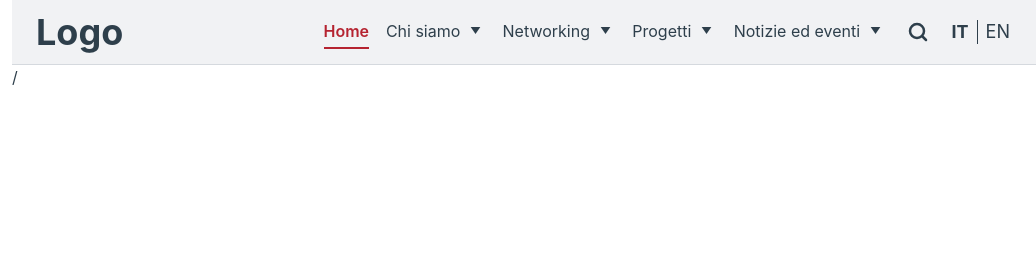
it: dropdown items scroll targets (it) › /about › clicking "Regolamento" navigates to the page with its #hash and closes the dropdown
Click the button named "Sottomenu Chi siamo": [475, 31] box [465,19,485,43]
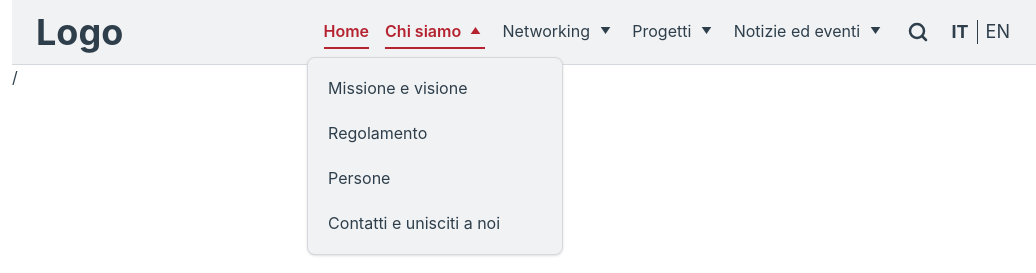
Click the link "Regolamento": [378, 133] box [328,123,427,143]
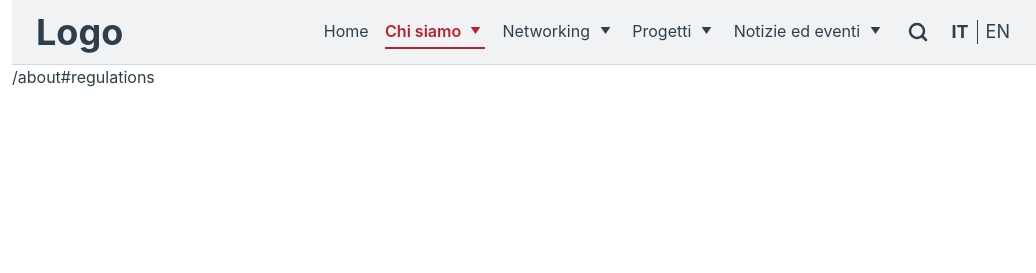
Expected: the text with test id "location" reads "/about#regulations", [12,67,155,87]
